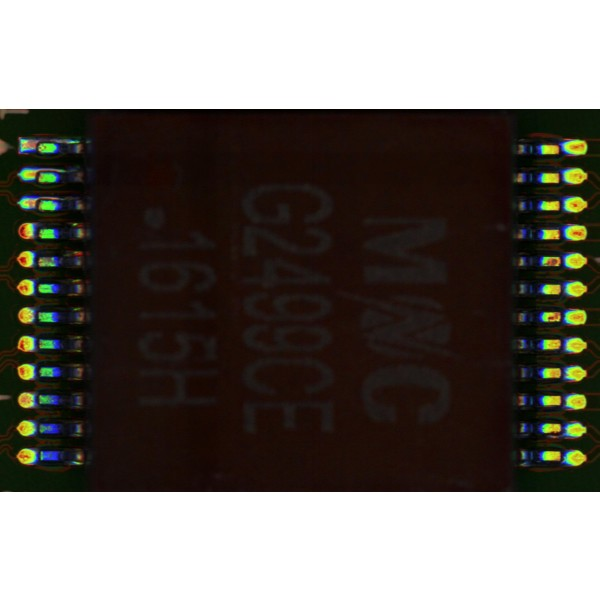Bad_podu: (33, 199, 44, 209), (33, 142, 45, 151), (32, 171, 44, 180)
Bad_qiaojiao: (38, 139, 81, 143), (39, 168, 70, 173), (39, 196, 67, 201)
